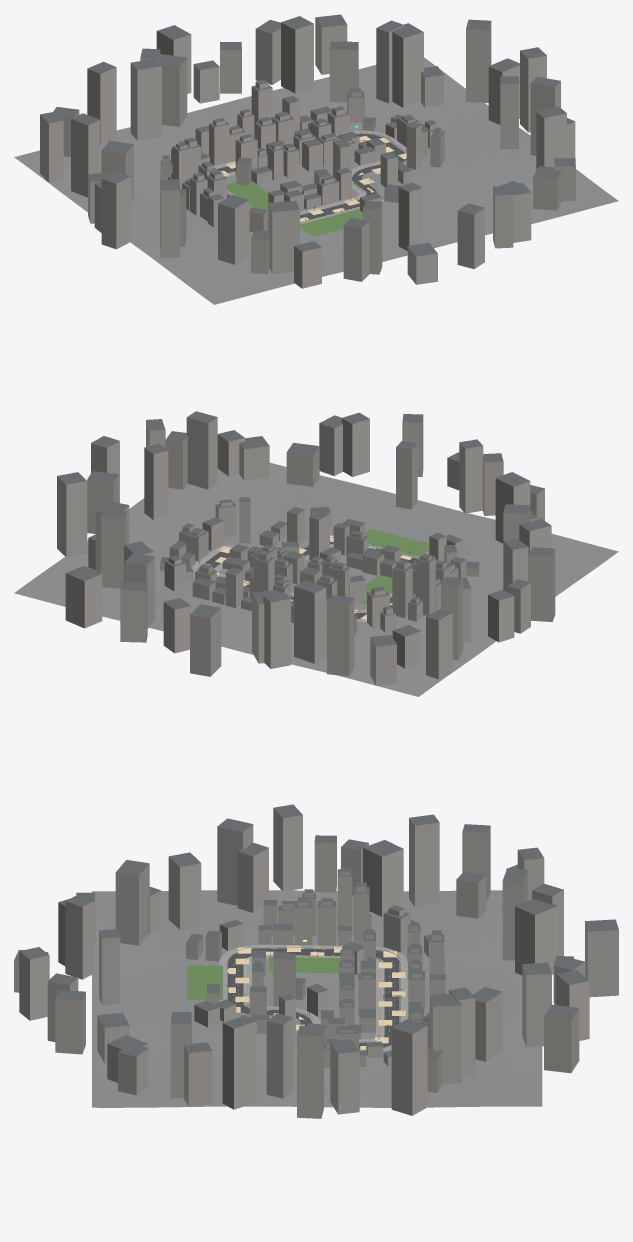
Rendered from downtown_circuit.glb.
The picture shows the model from 3 angles, top to bottom: view 1: azimuth 30°, elevation 25°; view 2: azimuth 150°, elevation 25°; view 3: azimuth 270°, elevation 25°; orthographic projection. The views are drawn at different scales.
Visible parts, largest first — view 1: downtown_circuit - City; view 2: downtown_circuit - City; view 3: downtown_circuit - City.
Part boxes in pixels (box(x1,y1,x2,y2)): downtown_circuit - City: box(14, 14, 618, 304); downtown_circuit - City: box(14, 411, 618, 696); downtown_circuit - City: box(14, 804, 618, 1118).
Size of the model in its own units: 932 by 554 by 967.
